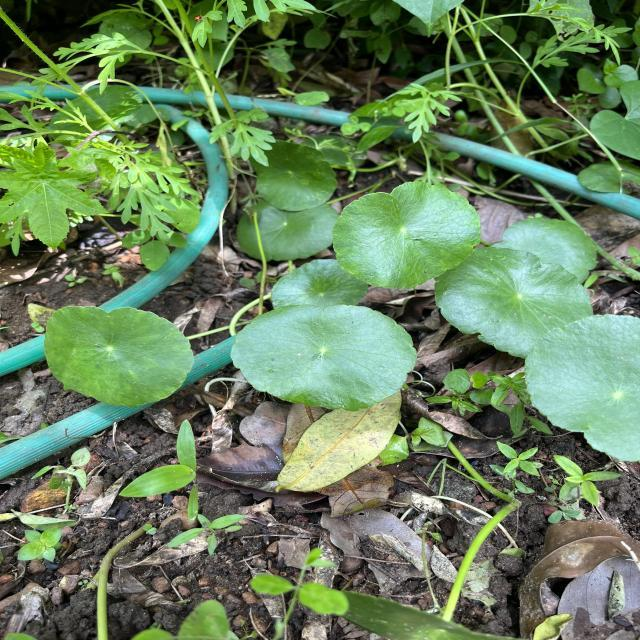Bacopa monnieri: (226, 302, 421, 414), (432, 244, 596, 361), (523, 312, 640, 464), (330, 179, 484, 292), (41, 304, 198, 409), (493, 215, 599, 288), (268, 256, 370, 312)
